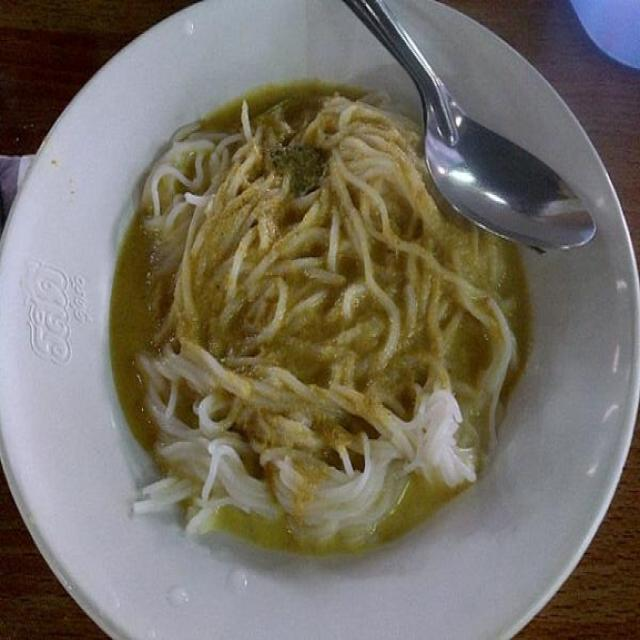面条主食: (8, 10, 629, 624)
